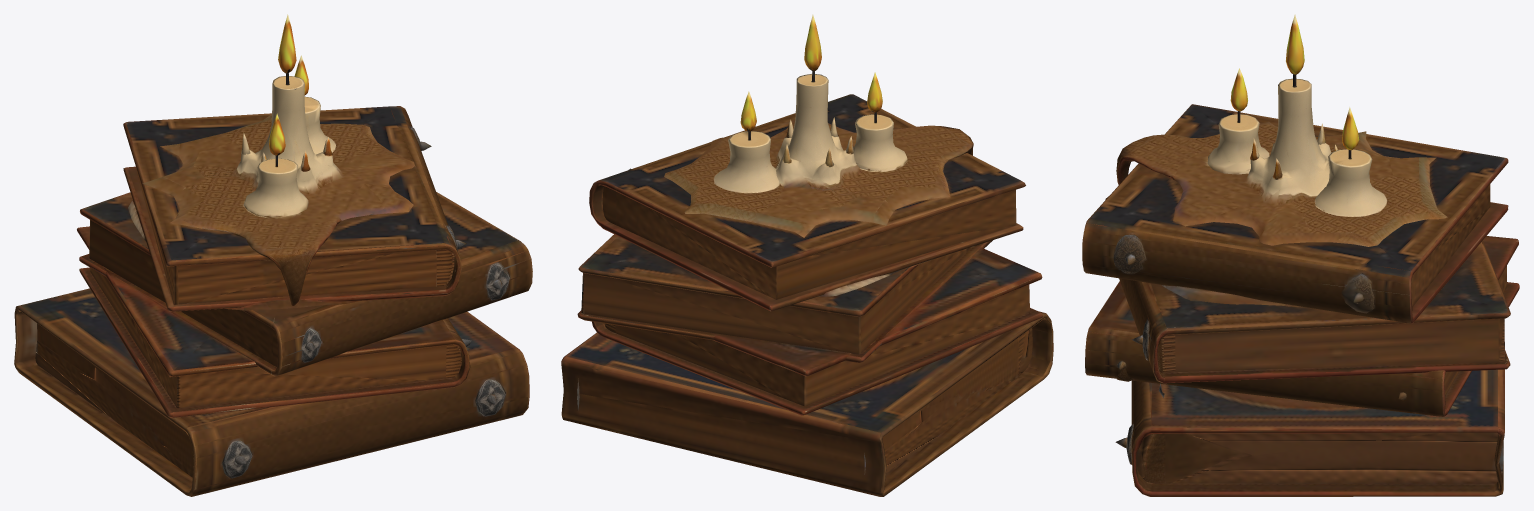
Rendered from velas_libros.glb.
The picture shows the model from 3 angles, left to right: view 1: azimuth 30°, elevation 25°; view 2: azimuth 150°, elevation 25°; view 3: azimuth 270°, elevation 25°; orthographic projection. The views are drawn at different scales.
Size of the model in its own units: 0.9583 by 1 by 0.9849.
1 material, 1 textured.
